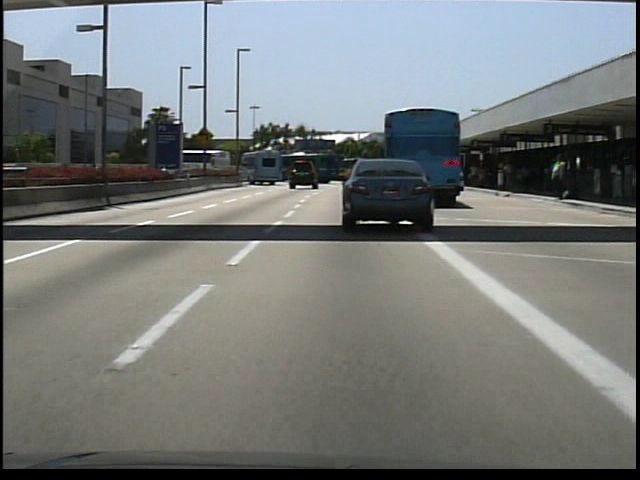person: (547, 153, 569, 201)
